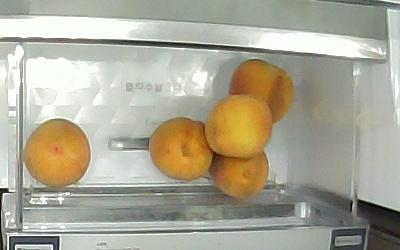peach: (24, 119, 91, 187), (205, 94, 272, 157), (229, 59, 294, 123), (149, 117, 213, 180), (209, 152, 269, 199)
